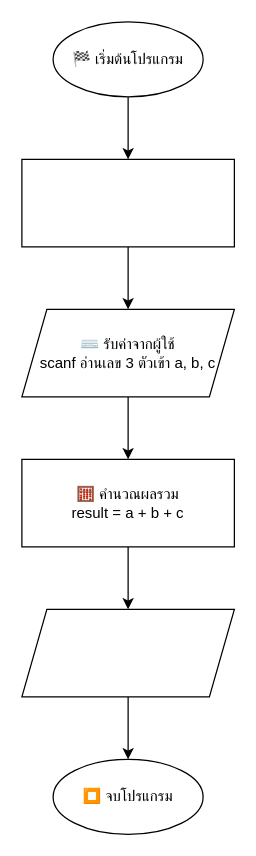
This 256x856 diagram has some shape labels left out. The shapes that lost their labels are listed below. From the top down, each one's centre as x and y in pixels, then its label:
(127,202): 📦 ประกาศตัวแปร a, b, c สำหรับเก็บเลข 3 ตัว
(127,652): 🖨️ แสดงผลลัพธ์ printf พิมพ์ Answer = ผลรวม
